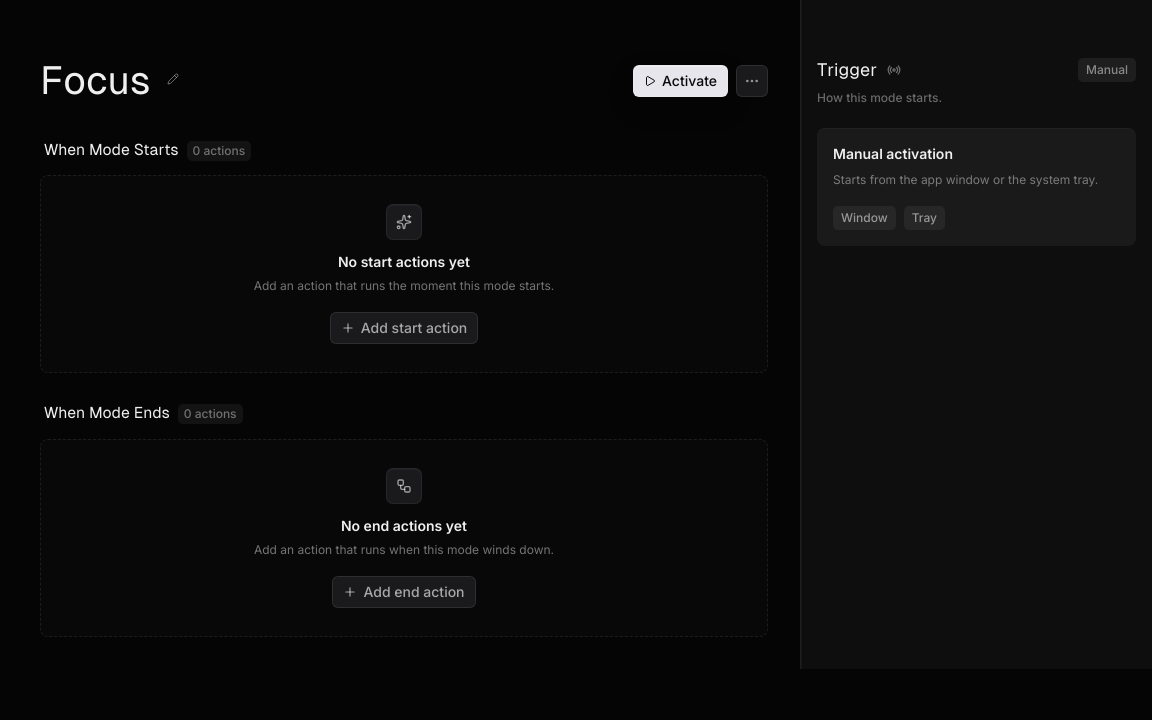
Scenario: ModeDetailPage › blocks saving an invalid open URL action
Click the button with aria-label "add your first start action" at x=404, y=328, box [330, 312, 478, 344]
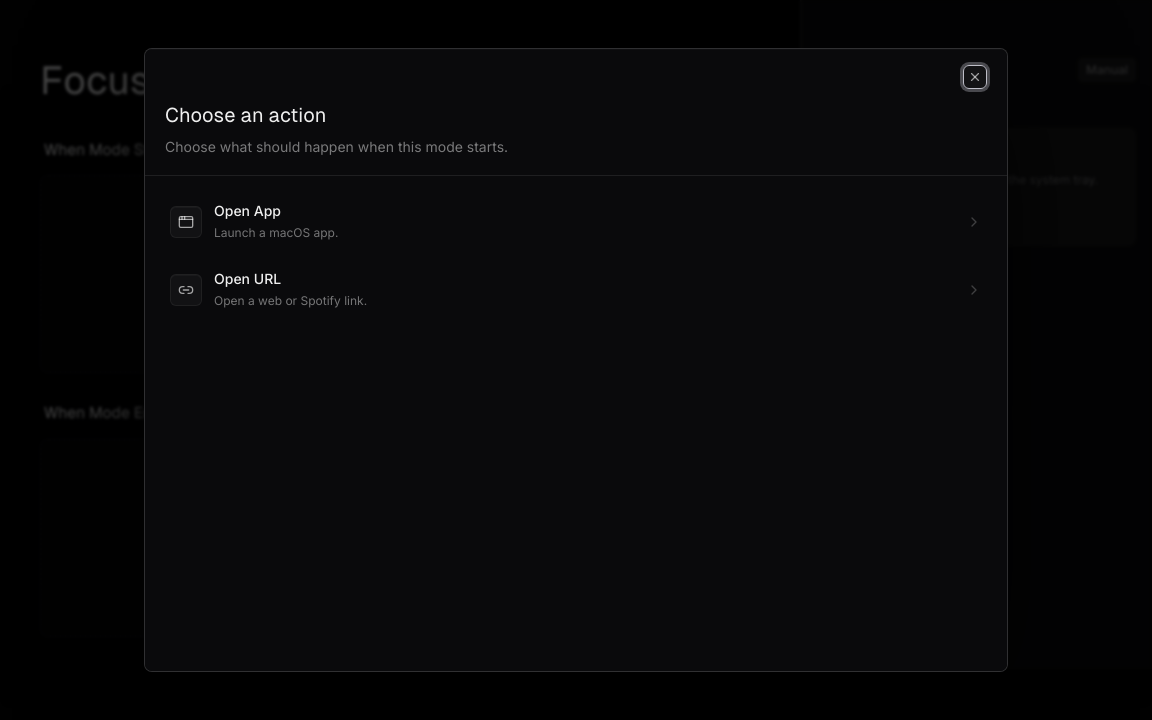
Click the button "Open URL Open a web or Spotify link." at x=186, y=290, box [157, 256, 995, 324]
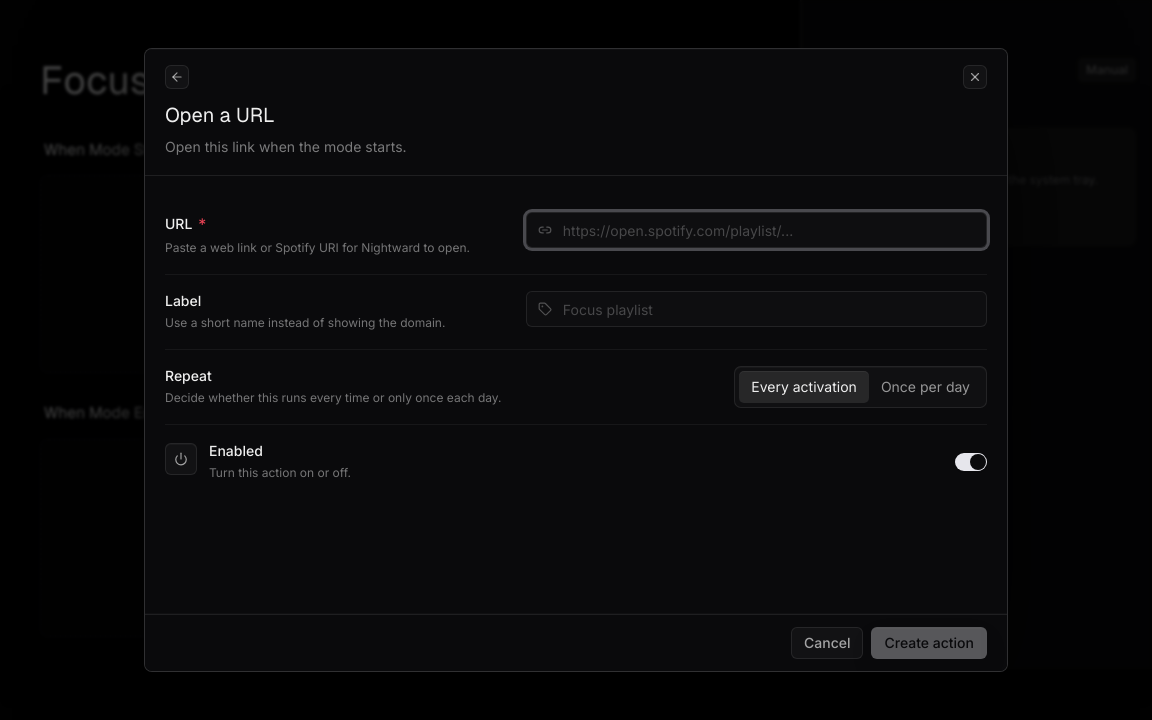
Type "spotify" into the field labelled "URL" at x=756, y=230, box [526, 212, 987, 248]
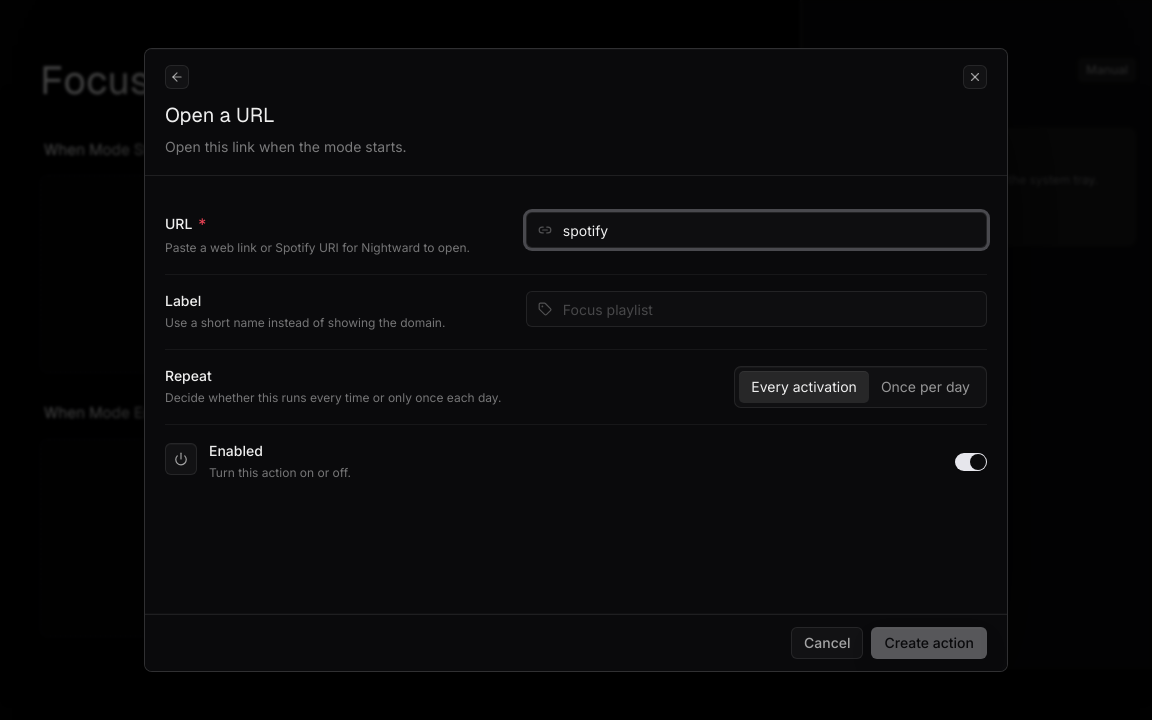
Expected: the text "Enter a valid http/https URL or Spotify link." is not shown
Leave the field labelled "URL", box [526, 212, 987, 248]
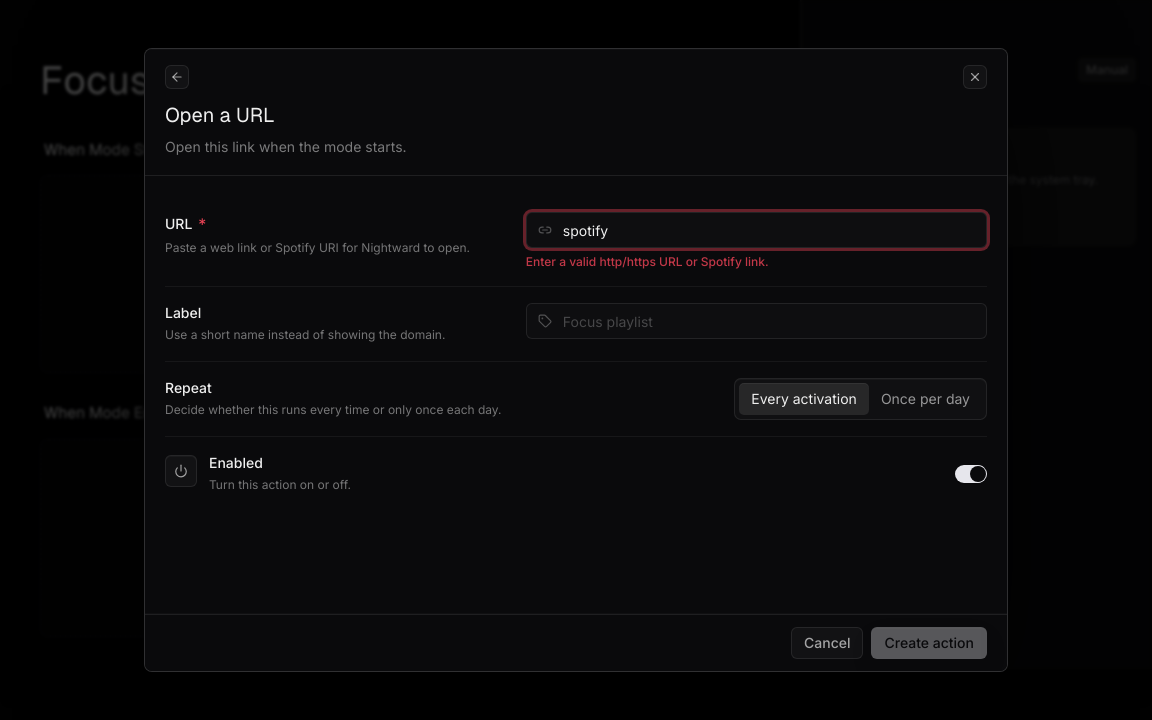
Now the button "Create action" is disabled, box [872, 627, 987, 659]
Now the text "Enter a valid http/https URL or Spotify link." is shown, box [526, 254, 769, 269]
